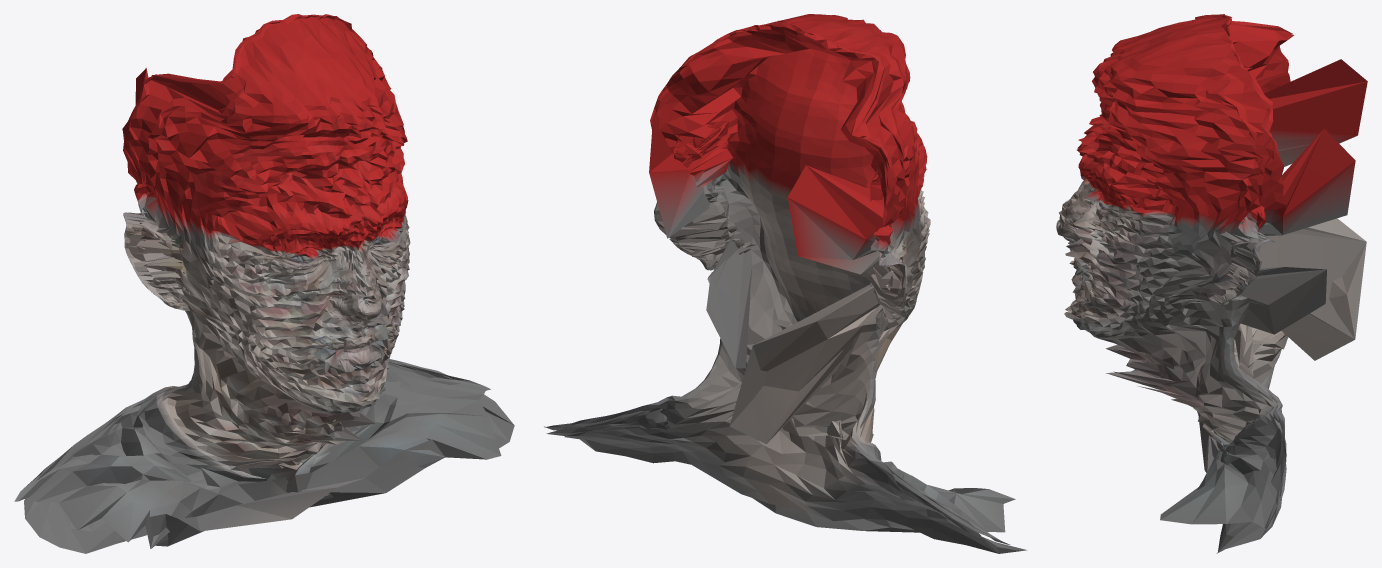
The model's file is asian_m_red_hair_display.obj.
3 views of the same model, side by side, from view 1: azimuth 30°, elevation 25°; view 2: azimuth 150°, elevation 25°; view 3: azimuth 270°, elevation 25° (orthographic). The views are drawn at different scales.
Bounding box in the file's own units: 0.3661 × 0.3668 × 0.2274.
